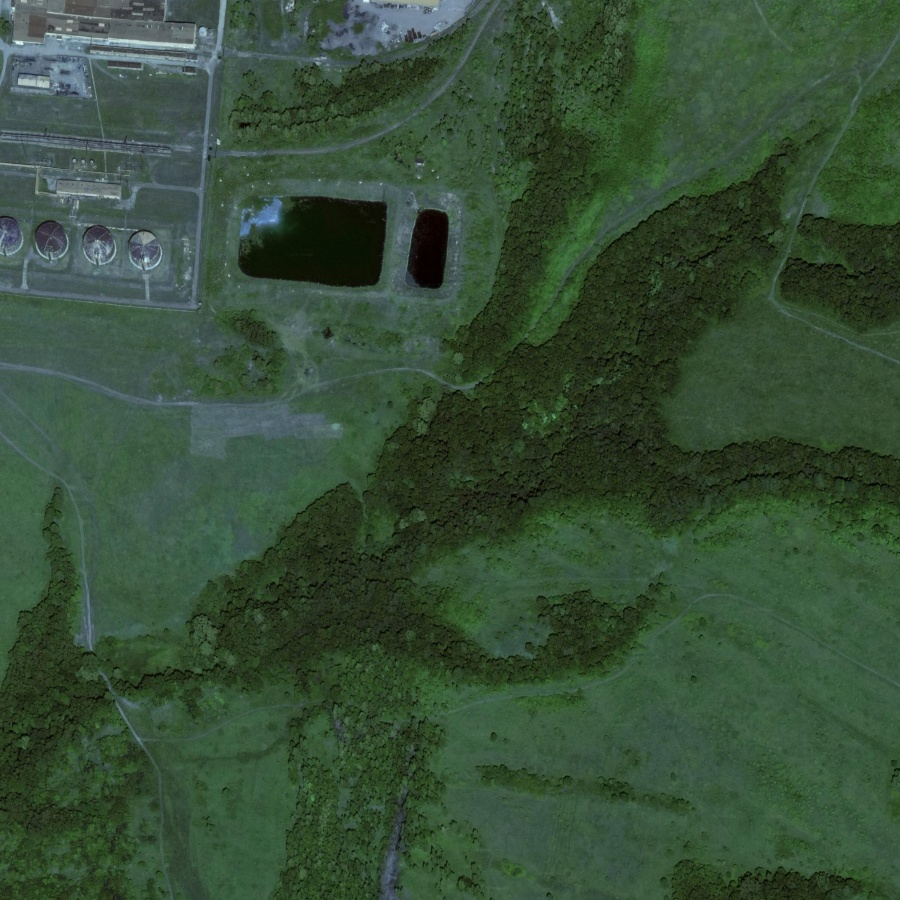PowerPlant: (228, 182, 462, 309)
